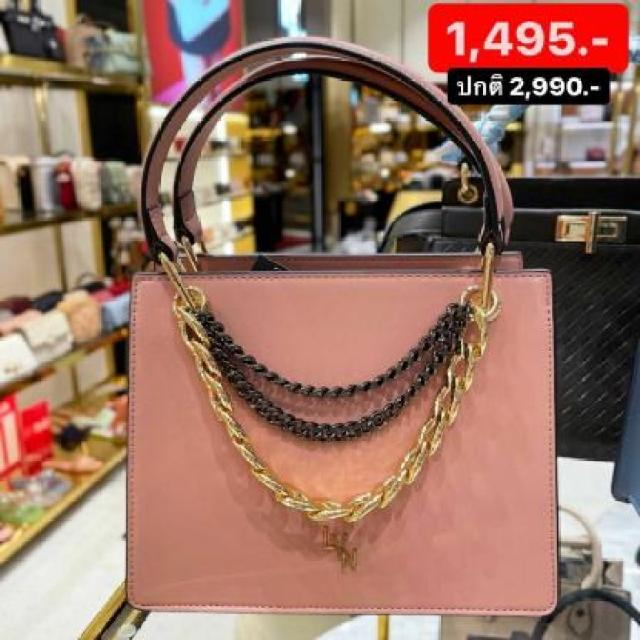Bag: (132, 29, 634, 636)
